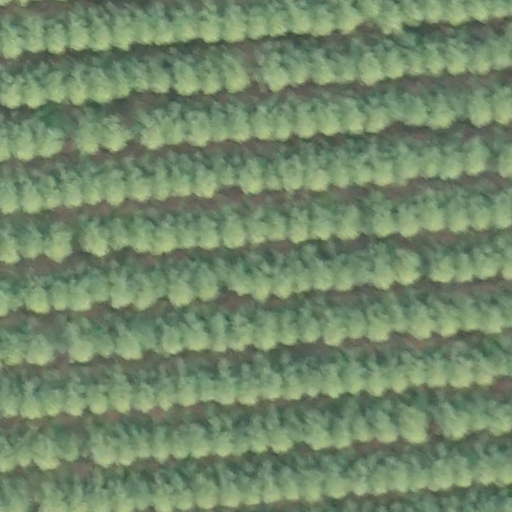eucalipto: (214, 204, 248, 253), (433, 397, 470, 441), (366, 189, 398, 239), (398, 401, 432, 444), (72, 109, 103, 155), (219, 46, 250, 91), (29, 429, 63, 470), (45, 221, 77, 264), (85, 426, 119, 466), (65, 319, 94, 364), (108, 262, 135, 310), (14, 222, 48, 260), (114, 319, 144, 362), (165, 263, 195, 306), (276, 150, 305, 193), (356, 44, 385, 87), (364, 351, 391, 397), (19, 12, 50, 52), (394, 246, 425, 286), (107, 6, 135, 50), (194, 259, 222, 303), (193, 154, 221, 198), (303, 409, 333, 450), (336, 200, 365, 241), (309, 198, 336, 242), (254, 307, 281, 350), (323, 305, 352, 345), (10, 121, 38, 162), (213, 364, 239, 408), (226, 99, 252, 143), (65, 8, 92, 50), (236, 359, 260, 406), (25, 64, 50, 109), (445, 187, 470, 232), (463, 137, 492, 175), (270, 255, 294, 300), (320, 357, 345, 400), (153, 368, 178, 411), (241, 155, 267, 196), (17, 173, 43, 214), (280, 359, 305, 401), (56, 430, 86, 465), (293, 99, 319, 139), (27, 329, 55, 366), (298, 301, 322, 344), (365, 301, 392, 339), (207, 309, 232, 350), (171, 5, 199, 41), (24, 281, 52, 316), (131, 375, 156, 414), (103, 163, 127, 203), (374, 403, 398, 443), (149, 424, 173, 464), (249, 412, 271, 455), (427, 348, 450, 389), (188, 421, 212, 460), (397, 199, 422, 236), (154, 218, 178, 256), (424, 39, 447, 78), (43, 20, 69, 53), (287, 203, 309, 241), (248, 3, 270, 40), (85, 382, 110, 414), (370, 456, 391, 494), (177, 372, 200, 406)
eucalitpo: (254, 48, 292, 93), (134, 267, 169, 314), (302, 245, 334, 292), (77, 213, 110, 258), (336, 90, 368, 136), (100, 113, 134, 155), (39, 372, 69, 418), (133, 110, 165, 152), (408, 295, 437, 341), (180, 105, 212, 146), (54, 165, 84, 208), (208, 412, 236, 458), (370, 145, 399, 188), (68, 61, 94, 107), (483, 396, 512, 437), (172, 52, 199, 96), (467, 82, 494, 126), (308, 42, 336, 84), (129, 212, 155, 256), (225, 257, 254, 296), (156, 318, 185, 357), (1, 328, 30, 367), (434, 299, 462, 339), (39, 119, 65, 162), (148, 154, 172, 200), (1, 276, 27, 318), (467, 39, 497, 75), (181, 312, 207, 353), (106, 61, 132, 101), (417, 142, 445, 179), (308, 1, 339, 34), (430, 90, 456, 129), (403, 90, 431, 126), (330, 254, 356, 292), (451, 244, 476, 283), (279, 461, 301, 504), (430, 453, 454, 492)
